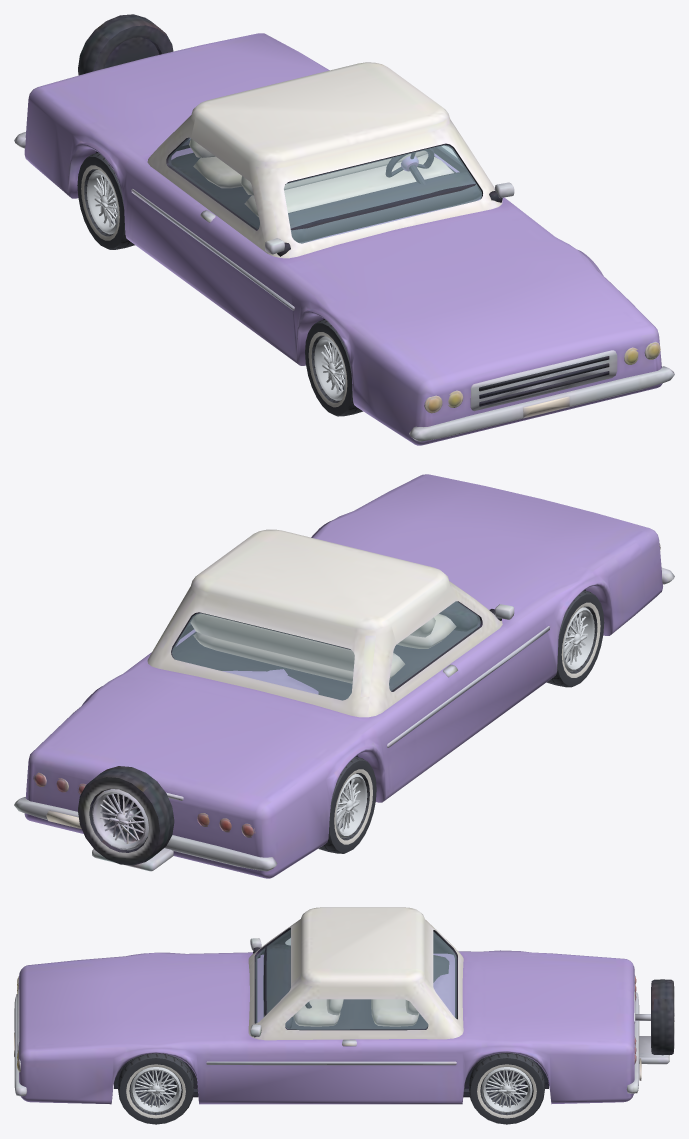
File: lowrider.glb
3 views of the same model, one above another, from view 1: azimuth 30°, elevation 25°; view 2: azimuth 150°, elevation 25°; view 3: azimuth 270°, elevation 25° (orthographic). The views are drawn at different scales.
Visible parts, largest first — view 1: lowrider_body, lowrider_windows, lowrider_wheel_rr, lowrider_wheel_fr; view 2: lowrider_body, lowrider_windows, lowrider_wheel_rr, lowrider_wheel_fr; view 3: lowrider_body, lowrider_windows, lowrider_wheel_rl, lowrider_wheel_fl.
Part boxes in pixels (x1,y1,x2,y2): lowrider_body: [14, 14, 674, 445]; lowrider_windows: [168, 138, 481, 243]; lowrider_wheel_rr: [77, 152, 134, 249]; lowrider_wheel_fr: [305, 319, 362, 416]; lowrider_body: [14, 474, 674, 878]; lowrider_windows: [172, 601, 480, 700]; lowrider_wheel_rr: [318, 756, 376, 853]; lowrider_wheel_fr: [546, 590, 604, 687]; lowrider_body: [14, 907, 674, 1104]; lowrider_windows: [256, 929, 456, 1029]; lowrider_wheel_rl: [468, 1053, 545, 1124]; lowrider_wheel_fl: [117, 1053, 194, 1124].
Size of the model in its own units: 2.02 by 1.3 by 5.69.
Materials: 7 (2 with a texture image).
